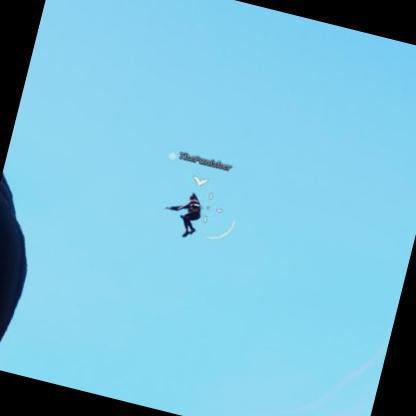person: (161, 187, 208, 241)
